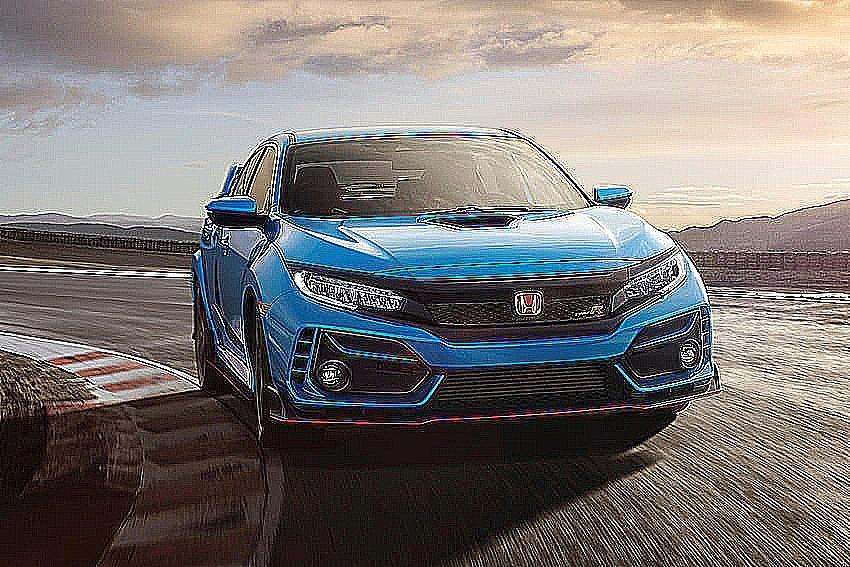Car hood: (267, 206, 686, 290)
Driver-s door - -F-R-: (216, 125, 301, 379)
Front bumper: (264, 276, 736, 454)
Headlight - -L-: (606, 243, 688, 342)
Headlight - -R-: (284, 256, 433, 332)
Side bumper - -R-: (200, 338, 263, 405)
Side mirror - -L-: (587, 183, 635, 210)
Side mirror - -R-: (206, 195, 285, 242)
